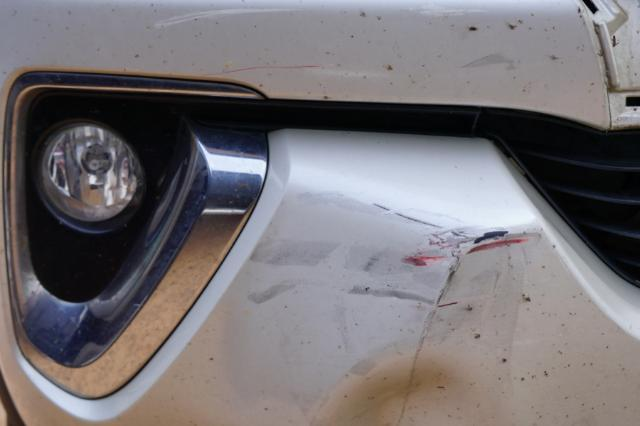Bumper: (264, 134, 598, 422)
